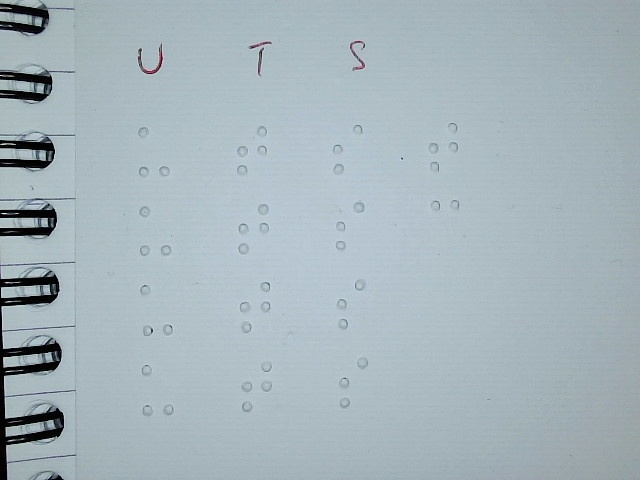S: (329, 122, 364, 178), (332, 197, 367, 253), (334, 276, 367, 332), (337, 354, 370, 410)
T: (234, 122, 269, 178), (237, 201, 272, 257), (238, 278, 273, 334), (239, 358, 274, 414)
U: (140, 362, 176, 417), (137, 124, 172, 180), (138, 203, 173, 259), (139, 282, 174, 338)
